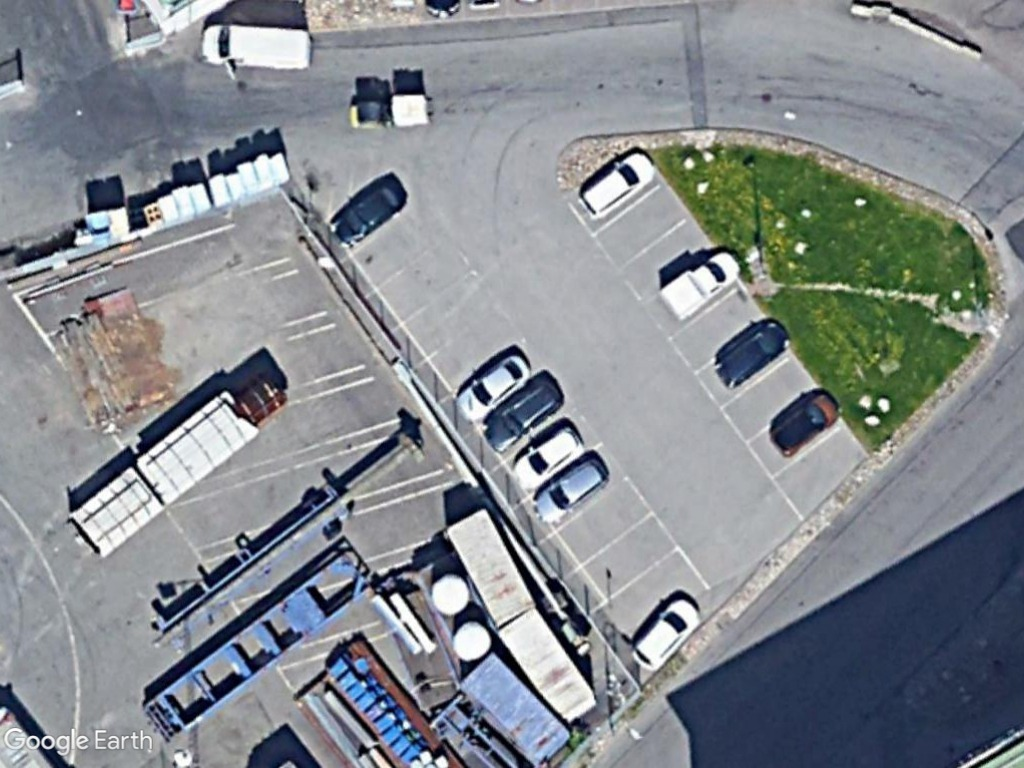car: (476, 372, 563, 457), (705, 316, 797, 396), (575, 138, 661, 222), (328, 170, 414, 250), (625, 588, 705, 673), (507, 416, 588, 495), (526, 452, 610, 528), (451, 348, 530, 428), (762, 389, 844, 461)
other: (652, 246, 742, 326)
van: (192, 20, 319, 75)
